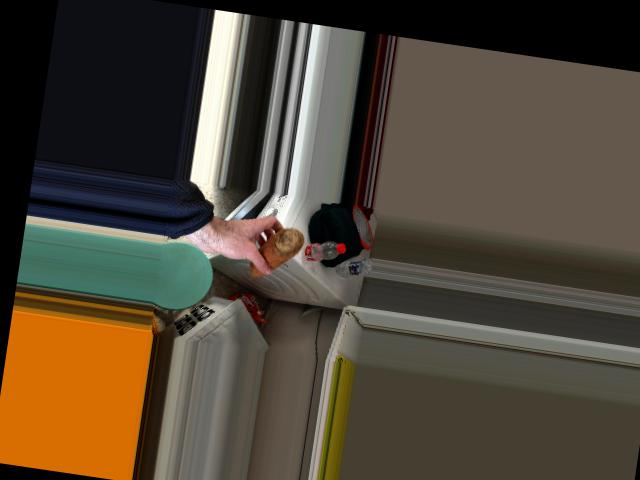sweet_potato: (247, 218, 305, 287)
